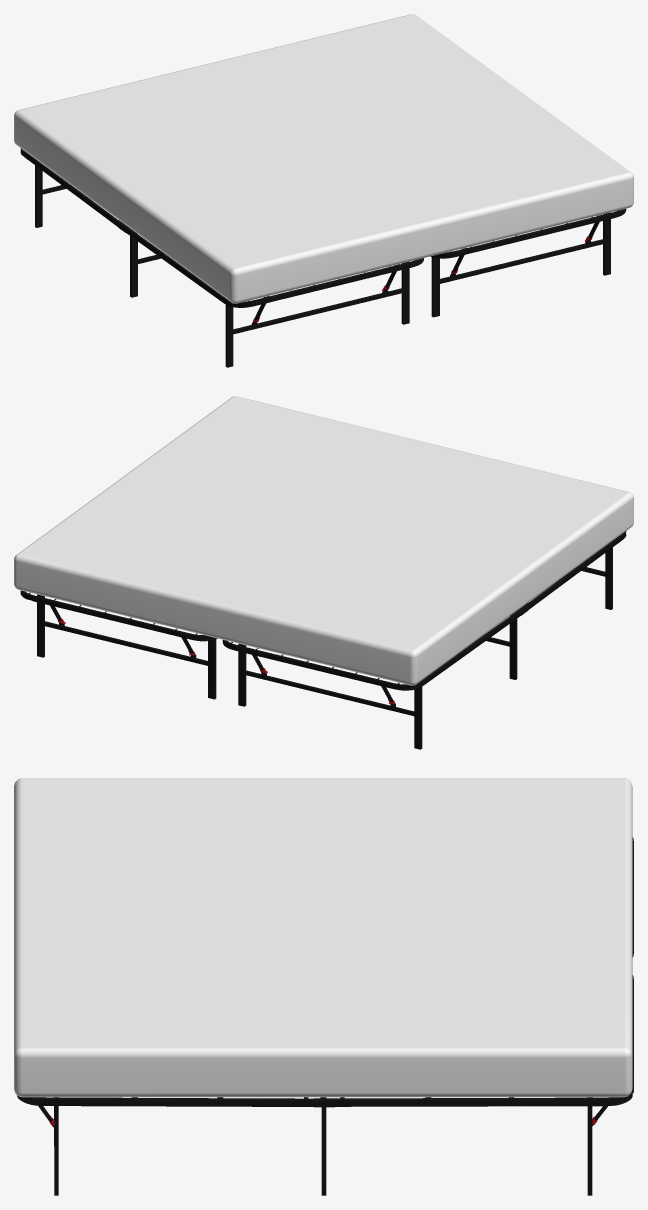
Rendered from abo-B073WR5DGC.glb.
The picture shows the model from 3 angles, top to bottom: view 1: azimuth 30°, elevation 25°; view 2: azimuth 150°, elevation 25°; view 3: azimuth 270°, elevation 25°; orthographic projection. The views are drawn at different scales.
Bounding box in the file's own units: 2.03 × 0.525 × 1.93.
1 material, 1 textured.
